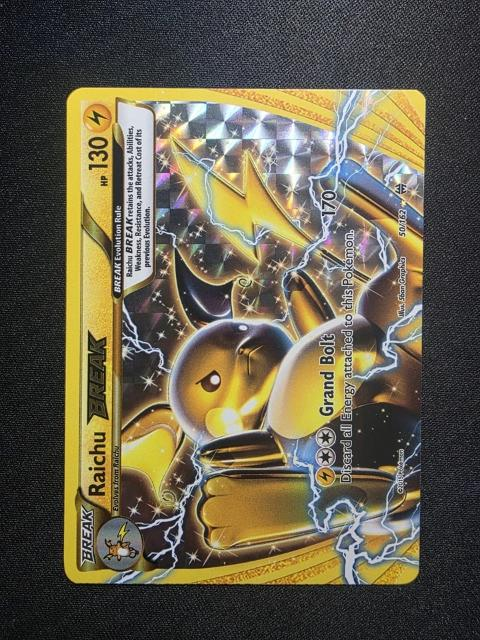Card: (62, 84, 431, 589)
Name: (83, 325, 112, 506)
